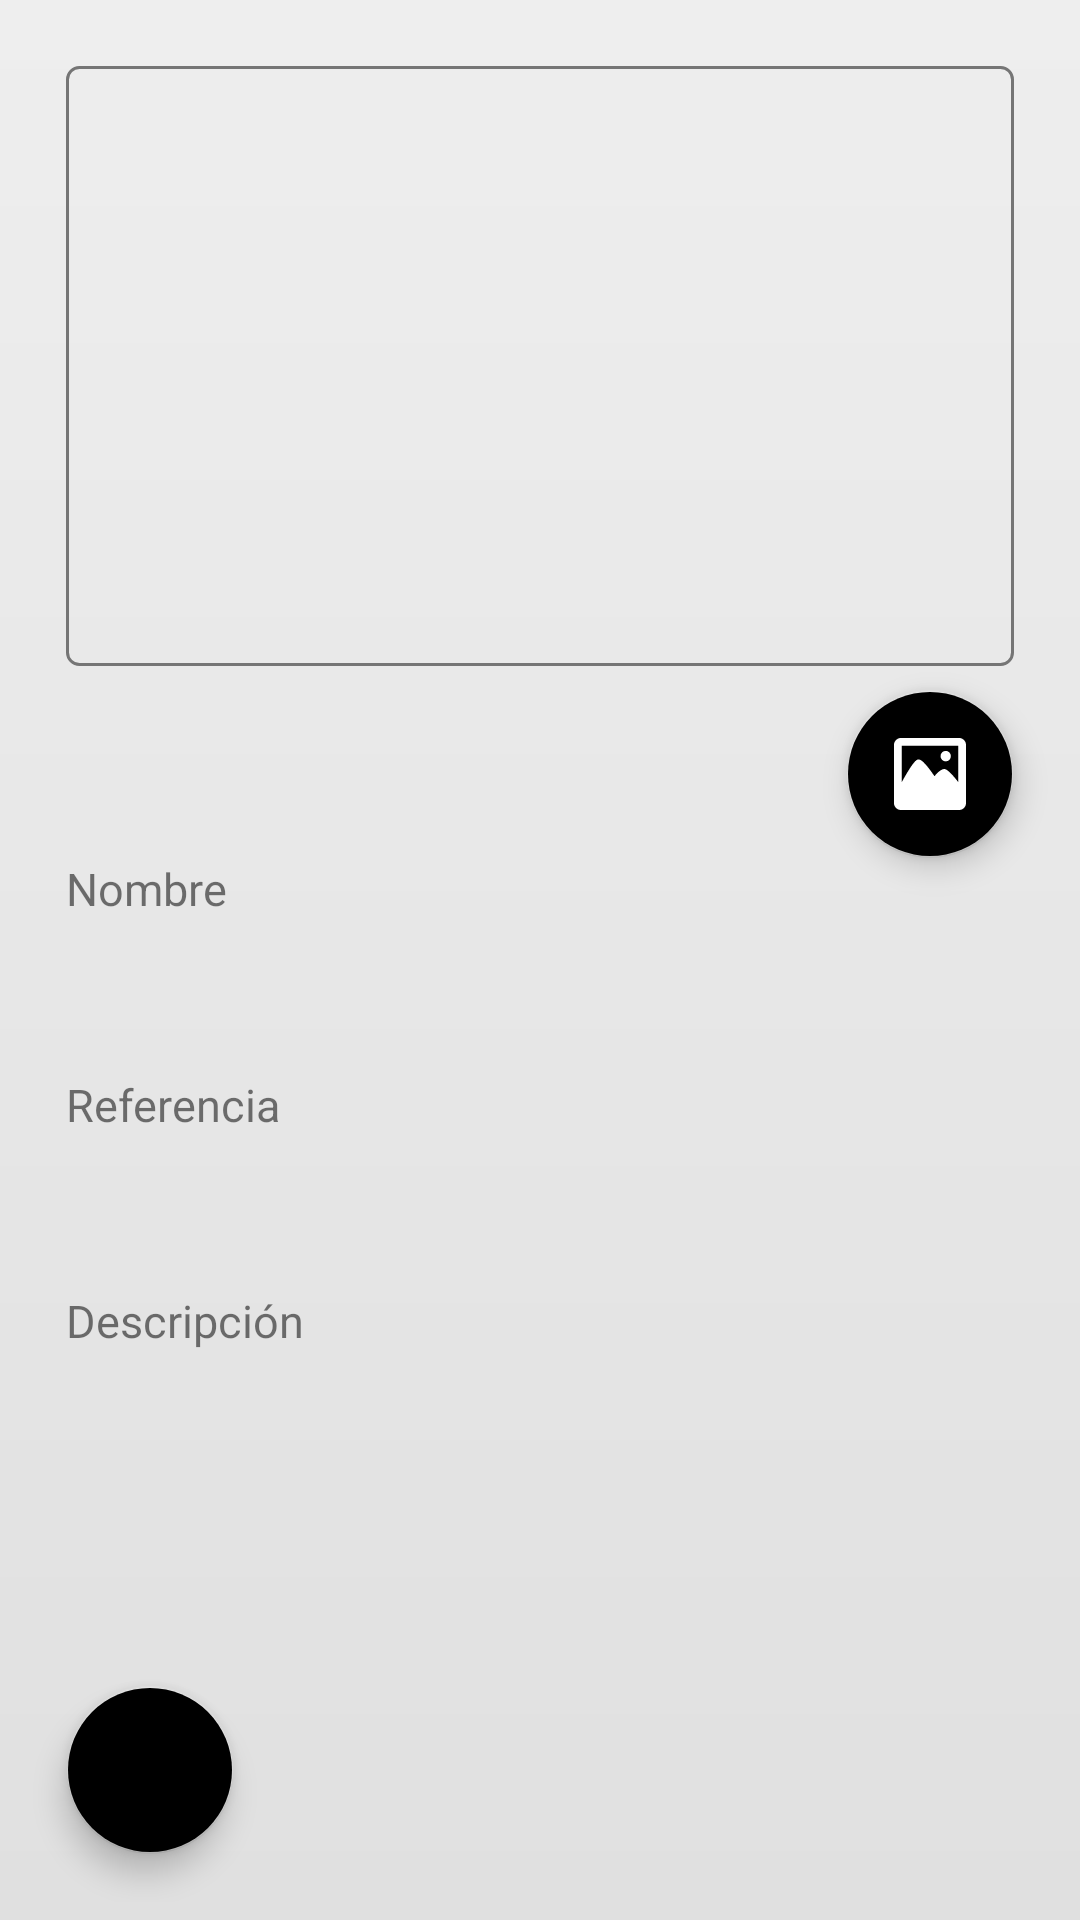

Where to tap for icons on this 1080 × 1920 app screen, as point (x, y):
Fab select imagen: point (931, 775)
